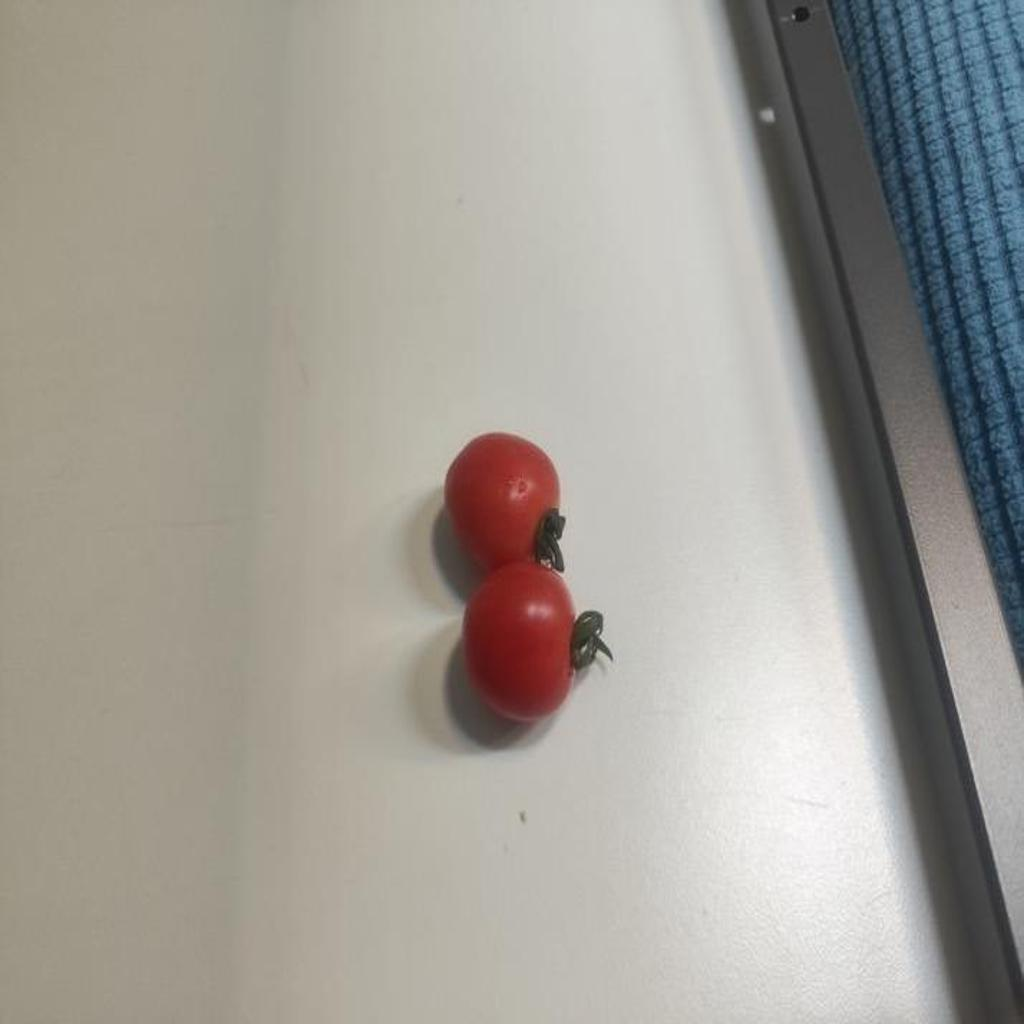tomato: (467, 566, 594, 716), (453, 434, 568, 565)
